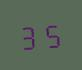five: (41, 20, 62, 48)
three: (19, 21, 40, 50)
